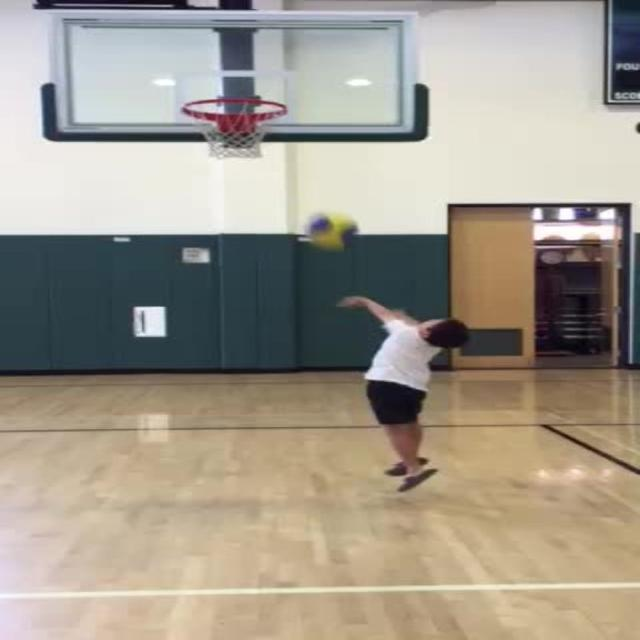Ball: (306, 213, 359, 252)
